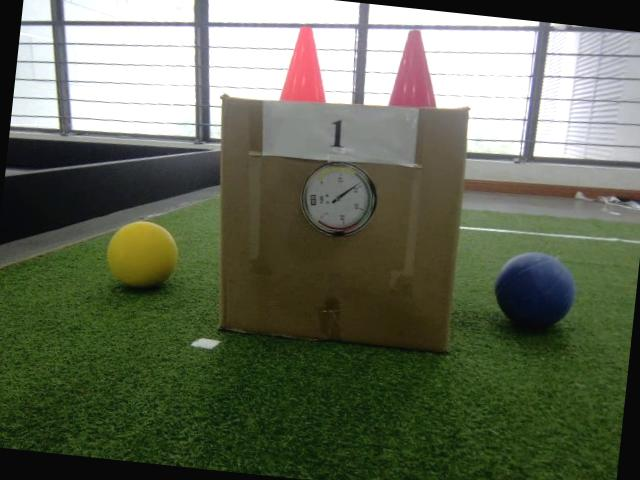1: (329, 118, 346, 148)
Dashboard: (297, 158, 381, 241)
blue_ball: (491, 248, 581, 333)
orange_barrel: (278, 24, 334, 104)
red_barrel: (387, 27, 444, 110)
ssi: (309, 194, 317, 206)
yellow_ball: (102, 216, 181, 292)
